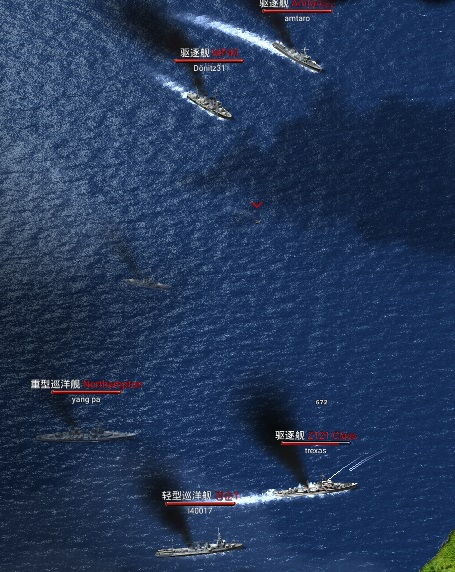ship: (271, 37, 325, 74), (182, 87, 234, 121), (270, 479, 359, 498), (156, 539, 248, 557), (38, 428, 139, 444), (122, 275, 175, 293)
